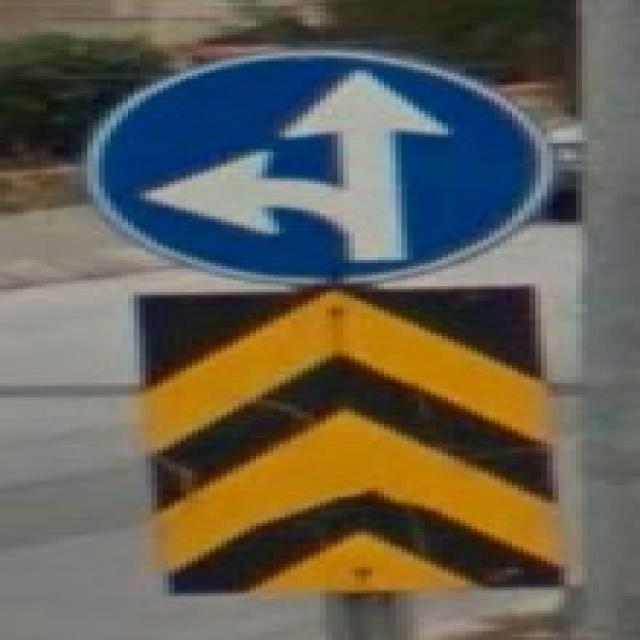Straight or Left: (82, 52, 548, 286)
